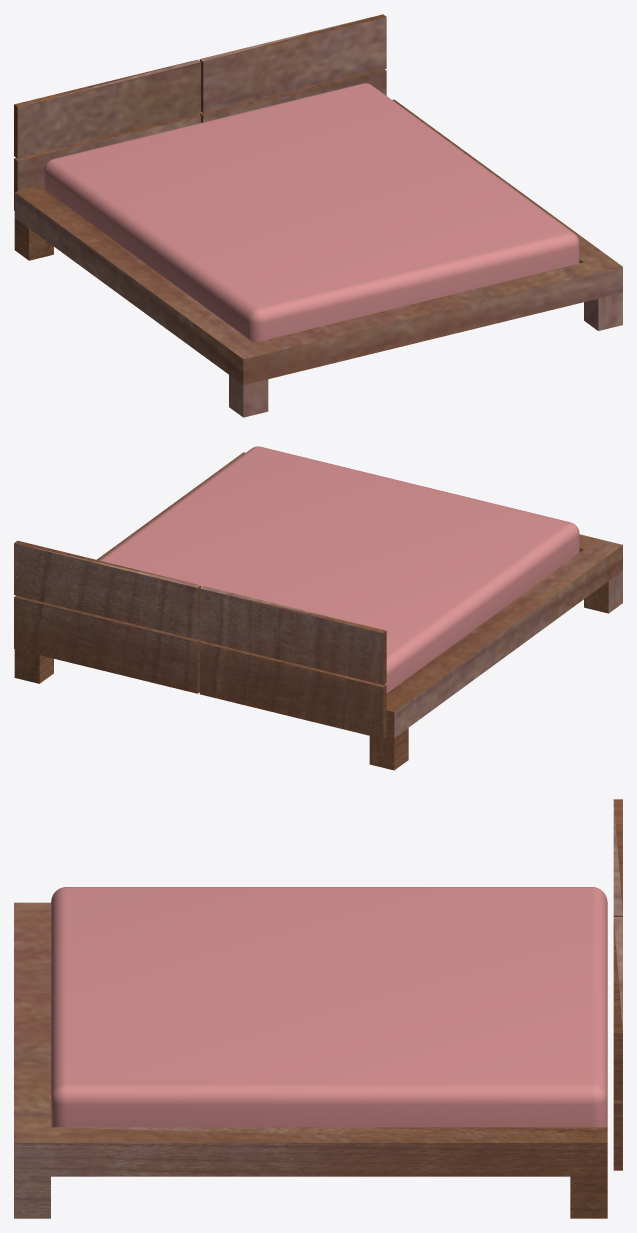
File: bed.gltf
The picture shows the model from 3 angles, top to bottom: view 1: azimuth 30°, elevation 25°; view 2: azimuth 150°, elevation 25°; view 3: azimuth 270°, elevation 25°; orthographic projection. The views are drawn at different scales.
Parts seen in each view (by area): view 1: Line21_7; view 2: Line21_7; view 3: Line21_7.
Boxes of the visible parts, left/top/right/bottom form: Line21_7: left=14, top=14, right=622, bottom=417; Line21_7: left=14, top=446, right=622, bottom=770; Line21_7: left=14, top=799, right=622, bottom=1218.
Bounding box in the file's own units: 2.76 × 0.975 × 2.95.
2 materials, 1 textured.
